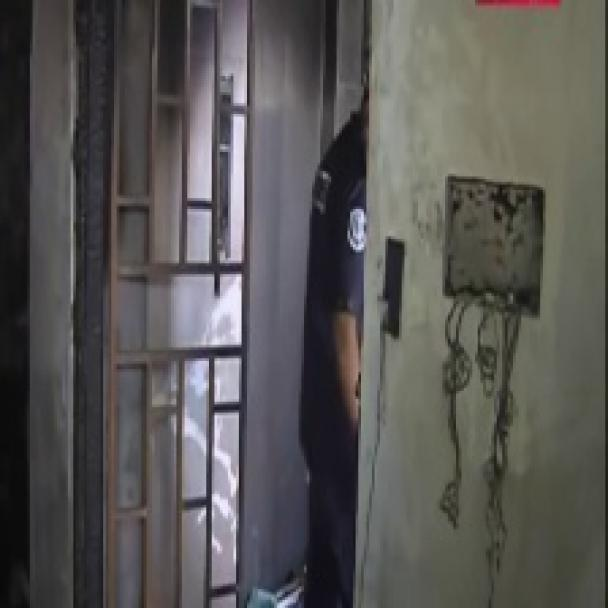smoke: (133, 11, 282, 574)
